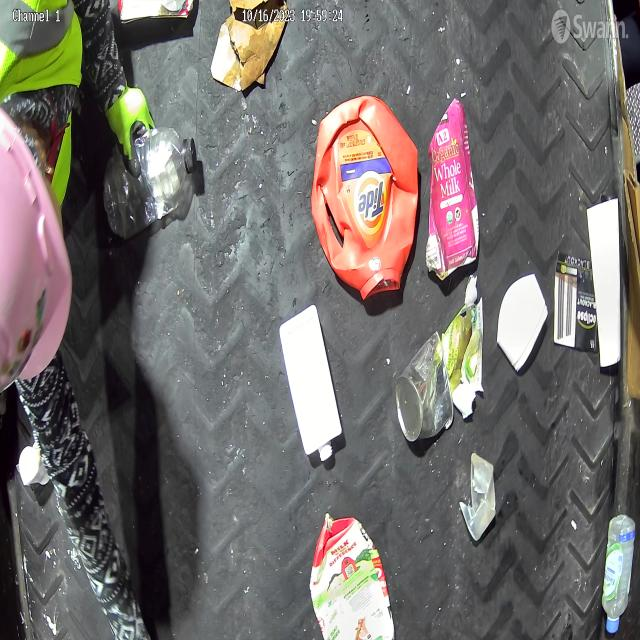can: (394, 328, 456, 445)
non_white_jug: (312, 92, 421, 314)
plastic_bottle: (106, 122, 205, 244), (598, 513, 637, 637)
